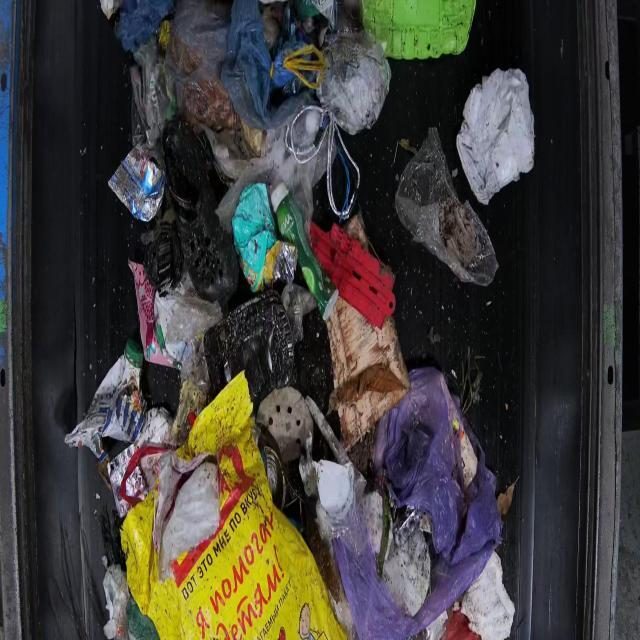other-trash: (66, 0, 533, 638)
